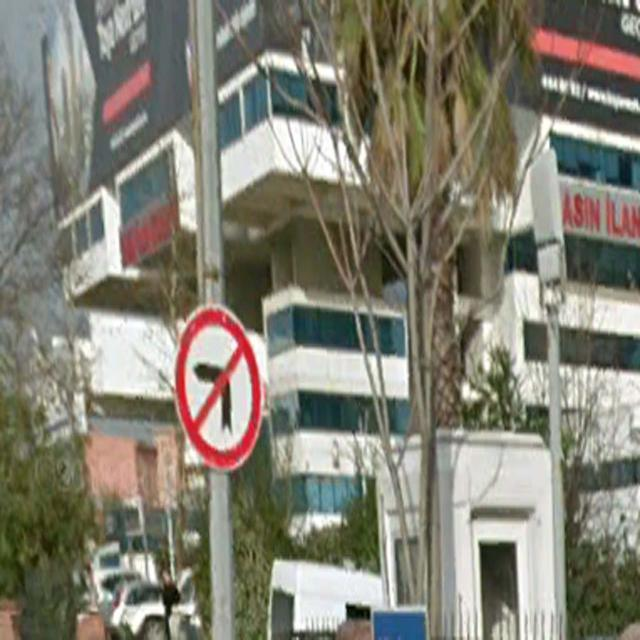soladonulmez: (173, 301, 262, 469)
